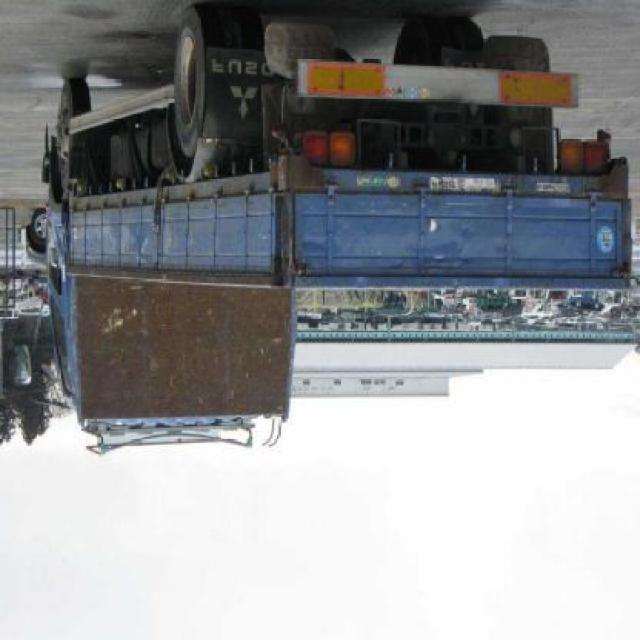truck: (39, 2, 634, 451)
